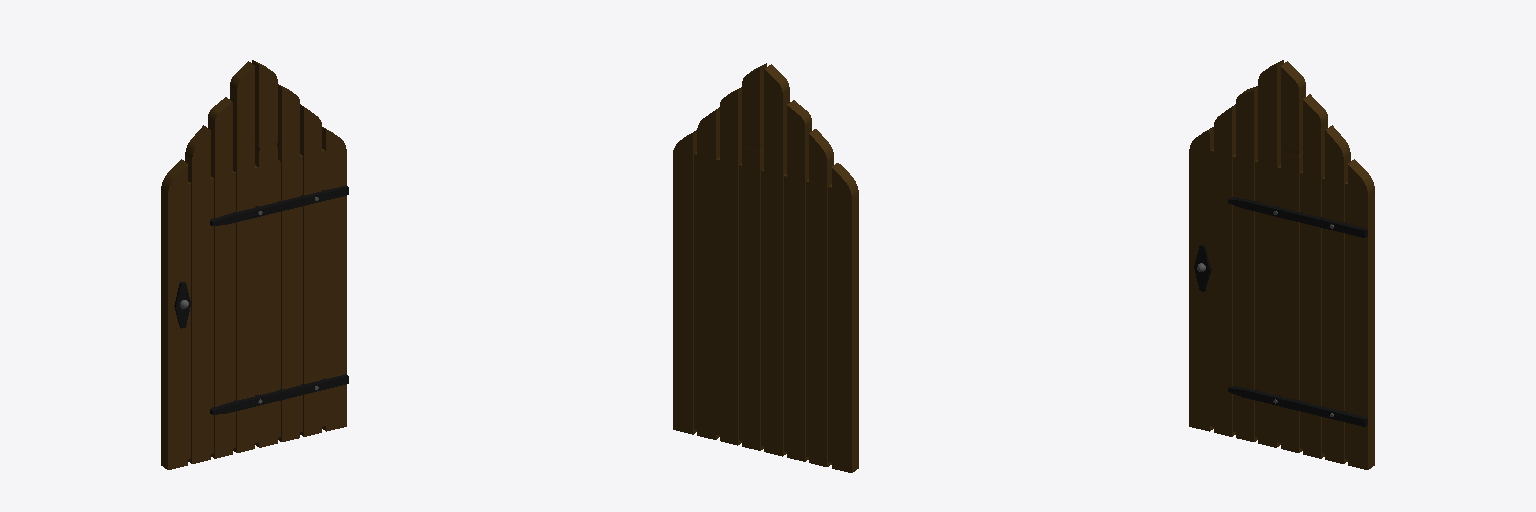
The model's file is Door.obj.
The picture shows the model from 3 angles: view 1: azimuth 30°, elevation 25°; view 2: azimuth 150°, elevation 25°; view 3: azimuth 330°, elevation 25°; orthographic projection.
Visible parts, largest first — view 1: Cube, Cube.004, Cube.001; view 2: Cube; view 3: Cube, Cube.004, Cube.001.
Part boxes in pixels (bbox=[...]): Cube: bbox=[161, 60, 346, 469]; Cube.004: bbox=[210, 374, 348, 414]; Cube.001: bbox=[210, 185, 348, 225]; Cube: bbox=[673, 63, 858, 472]; Cube: bbox=[1189, 60, 1374, 469]; Cube.004: bbox=[1228, 386, 1367, 426]; Cube.001: bbox=[1228, 197, 1367, 237].
Bounding box in the file's own units: 2 × 4.09 × 0.2172.